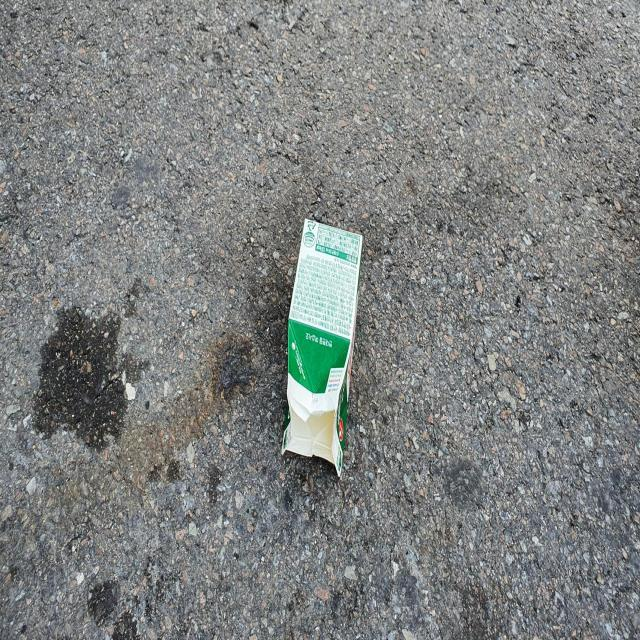paperpack: (282, 217, 363, 476)
